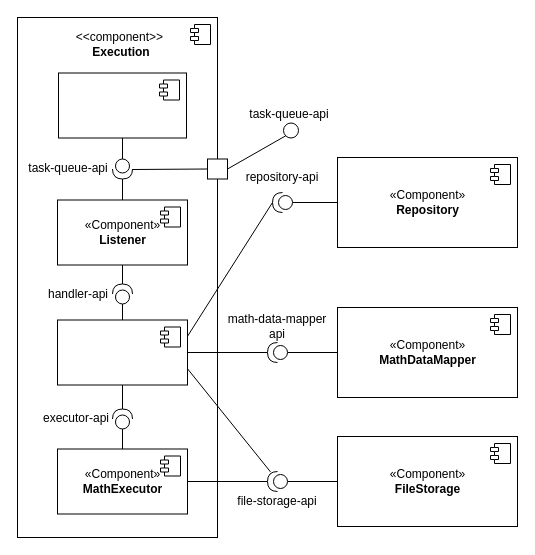
Image size: 535x555. Some labels were removed from this diagram. The box of each missing label's shape, as (x1, y1, x2, y2) in pixels:
«Component» Handler: (56, 319, 188, 385)
«Component» Queue: (58, 72, 186, 138)
